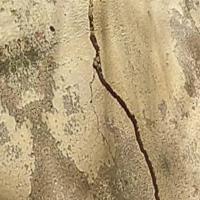crack: (74, 1, 170, 199)
